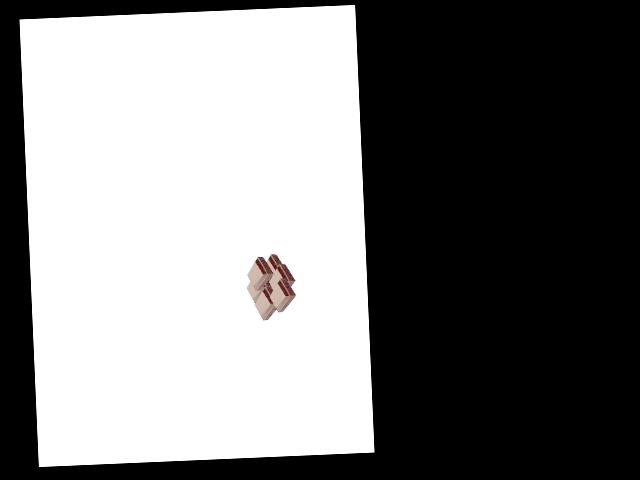chocolate: (243, 251, 295, 320)
